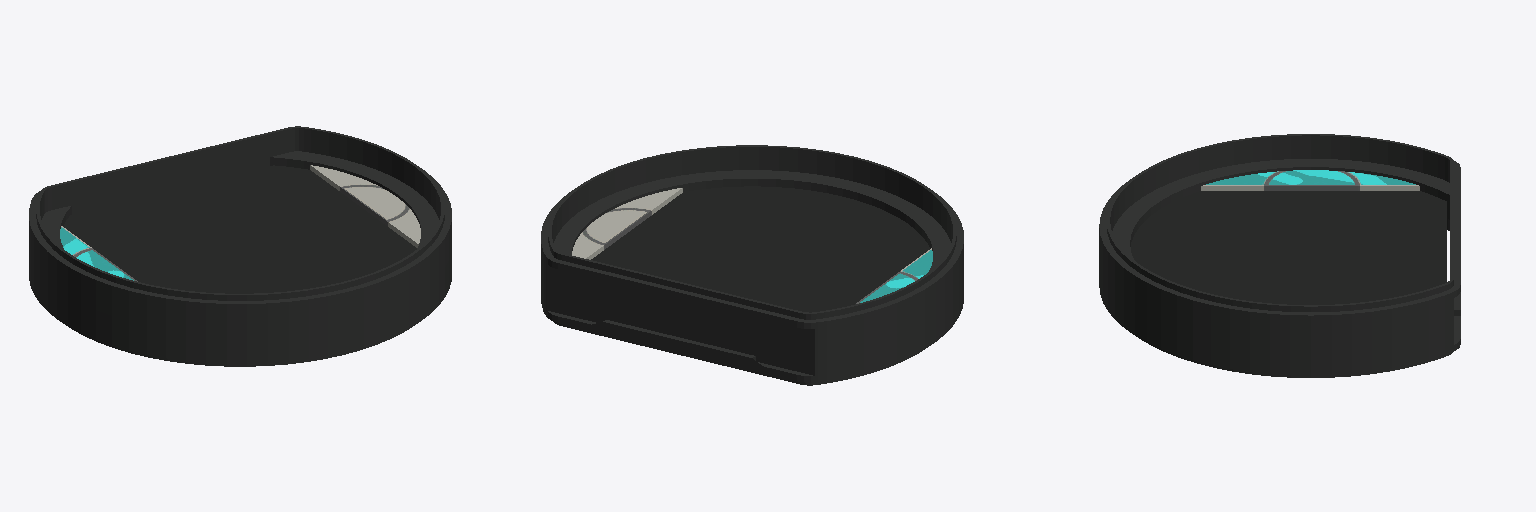
3 renders of one model, left to right at view 1: azimuth 30°, elevation 25°; view 2: azimuth 150°, elevation 25°; view 3: azimuth 270°, elevation 25°, orthographic.
Parts seen in each view (by area): view 1: door_open; view 2: door_open; view 3: door_open.
Part boxes in pixels (x1,y1,x2,y2): door_open: (29, 126, 451, 366); door_open: (541, 145, 963, 385); door_open: (1099, 134, 1460, 377).
Bounding box in the file's own units: 0.9954 × 0.1855 × 0.8497.
1 materials, 1 textured.